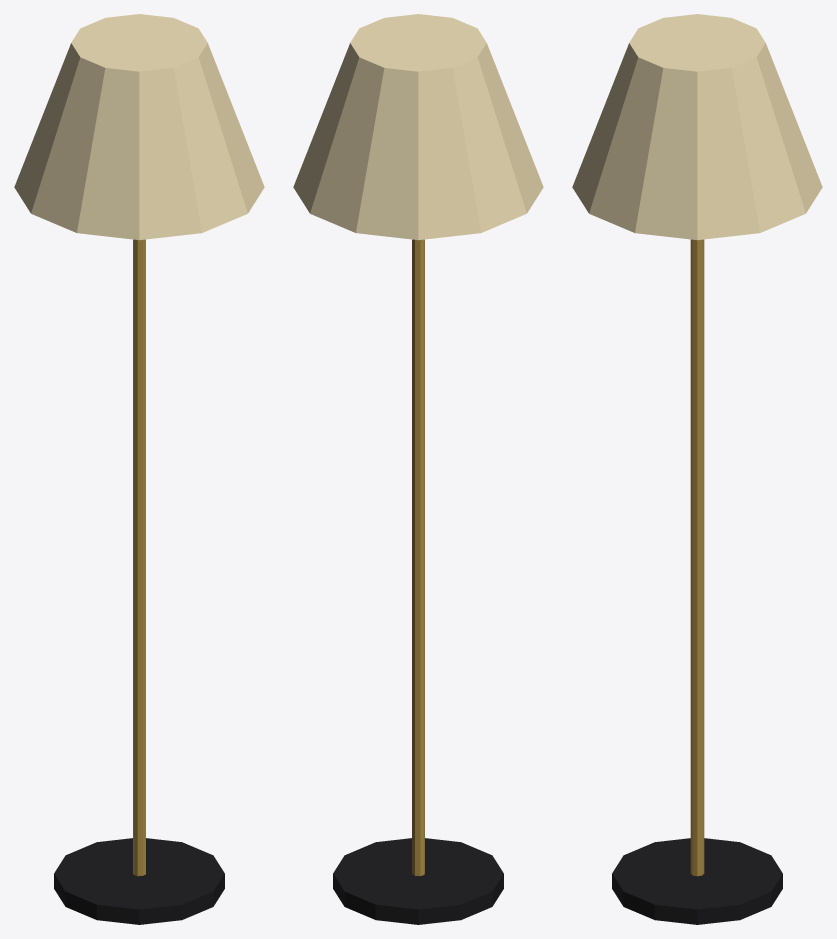
Rendered from lamp.glb.
3 views of the same model, side by side, from view 1: azimuth 30°, elevation 25°; view 2: azimuth 150°, elevation 25°; view 3: azimuth 270°, elevation 25° (orthographic).
Parts seen in each view (by area): view 1: lamp; view 2: lamp; view 3: lamp.
Part boxes in pixels (bbox=[...]): lamp: bbox=[14, 14, 264, 924]; lamp: bbox=[293, 14, 543, 924]; lamp: bbox=[572, 14, 822, 924].
Bounding box in the file's own units: 0.44 × 1.64 × 0.44.
